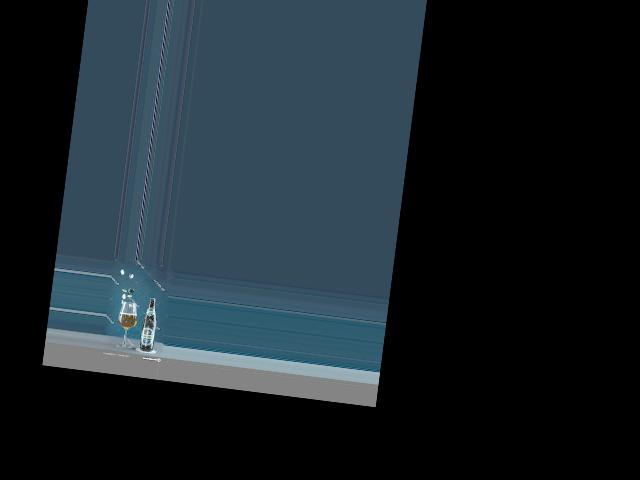beer: (139, 297, 158, 351)
